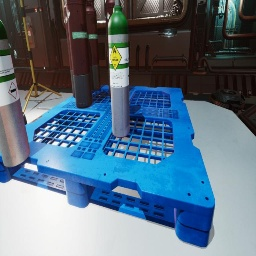0: (0, 19, 30, 167), (108, 0, 130, 138)
FireExtinguisher ]: (23, 113, 27, 125)
NitrogenTank ,: (65, 0, 92, 108), (105, 0, 121, 98), (85, 0, 100, 90), (64, 3, 75, 98)
SafetySwitchPanel ,: (25, 16, 38, 48)
